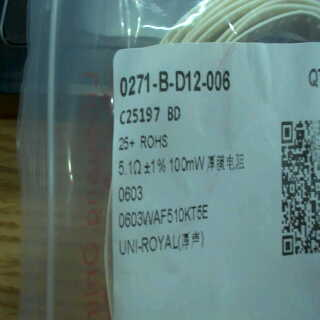5.1R: (114, 157, 142, 181)
